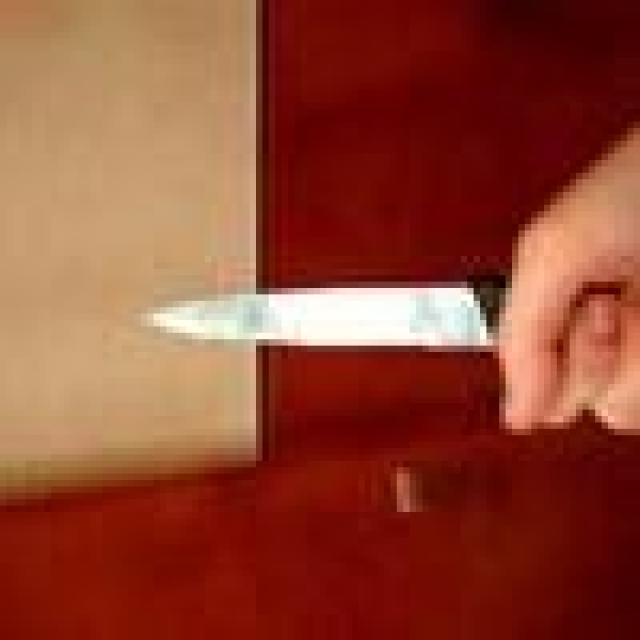senjata_tajam: (139, 280, 512, 350)
